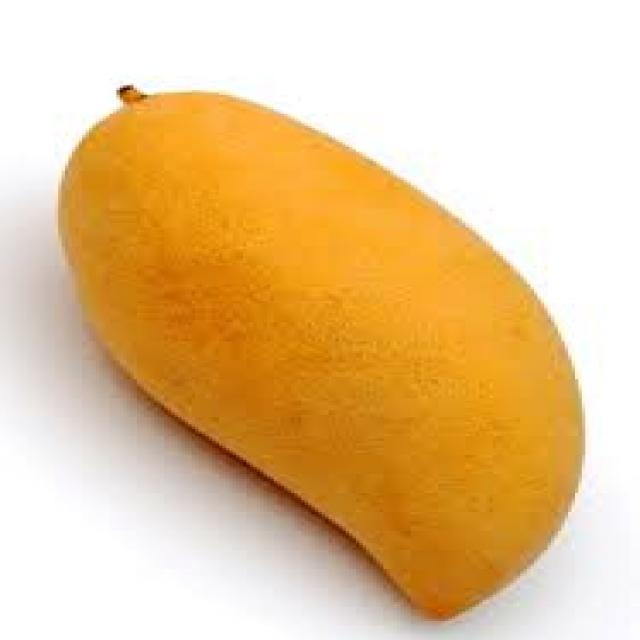organic waste: (58, 83, 582, 619)
